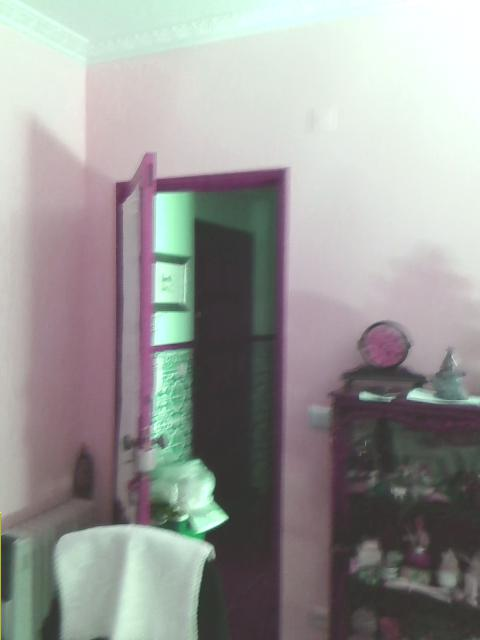semi_door: (112, 149, 289, 638)
